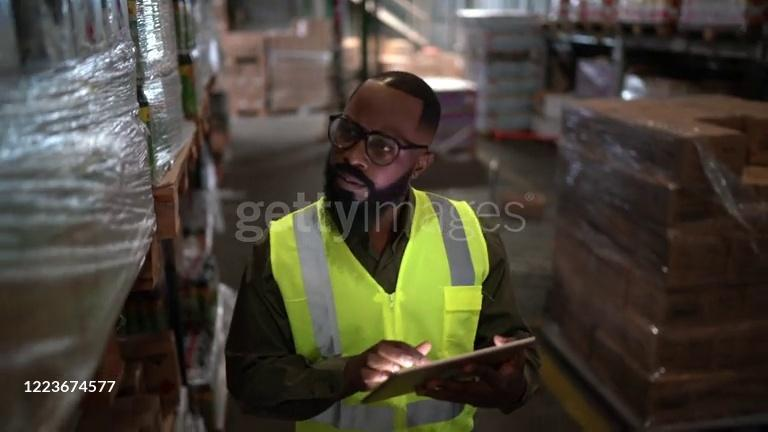person: (224, 70, 542, 432)
